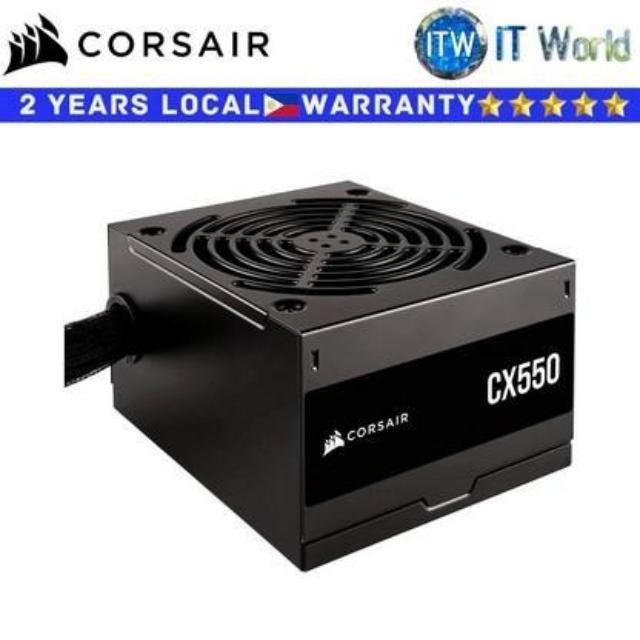PSU: (95, 157, 583, 577)
